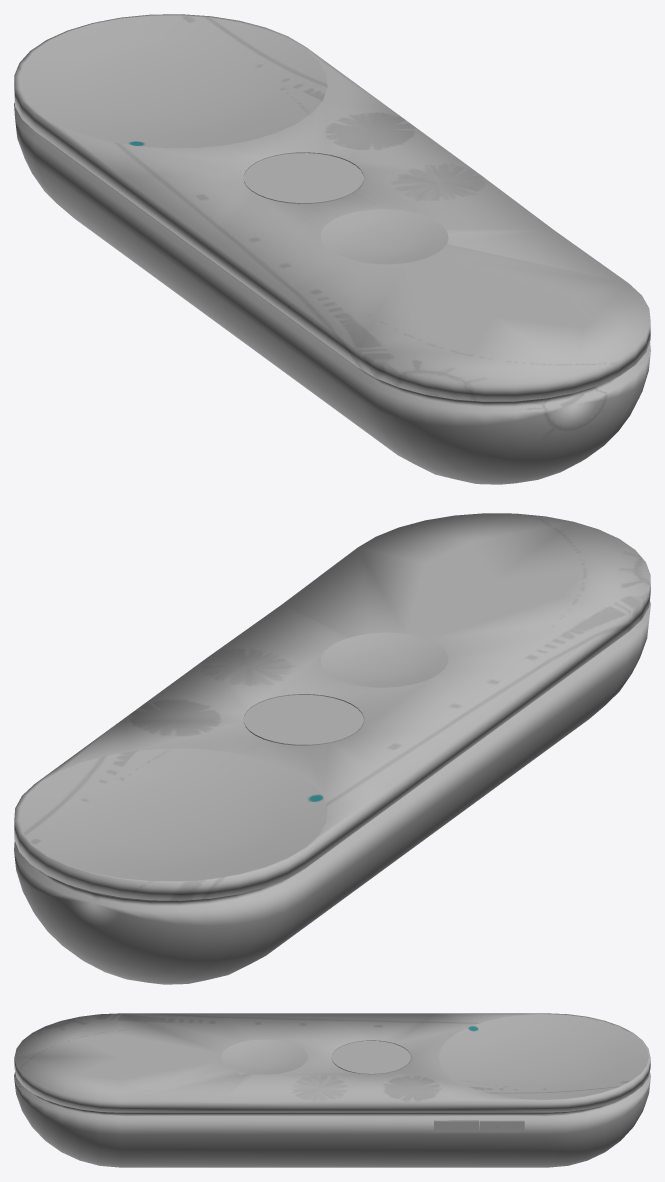
The model's file is vr_controller_daydream.obj.
3 views of the same model, one above another, from view 1: azimuth 30°, elevation 25°; view 2: azimuth 150°, elevation 25°; view 3: azimuth 270°, elevation 25° (orthographic). The views are drawn at different scales.
Parts seen in each view (by area): view 1: Body_Body_Cylinder, TouchPad_TouchPad_Cylinder.003, AppButton_AppButton_Cylinder.004, HomeButton_HomeButton_Cylinder.005; view 2: Body_Body_Cylinder, TouchPad_TouchPad_Cylinder.003, AppButton_AppButton_Cylinder.004, HomeButton_HomeButton_Cylinder.005; view 3: Body_Body_Cylinder, TouchPad_TouchPad_Cylinder.003, AppButton_AppButton_Cylinder.004, HomeButton_HomeButton_Cylinder.005, VolUpButton_VolUpButton_Cylinder.002, VolDownButton_VolDownButton_Cylinder.001.
Boxes of the visible parts, x1,y1,x2,y2 form: Body_Body_Cylinder: (14,14,650,484); TouchPad_TouchPad_Cylinder.003: (18,15,327,148); AppButton_AppButton_Cylinder.004: (320,209,448,264); HomeButton_HomeButton_Cylinder.005: (243,152,363,203); Body_Body_Cylinder: (14,513,650,984); TouchPad_TouchPad_Cylinder.003: (19,748,327,880); AppButton_AppButton_Cylinder.004: (320,632,448,687); HomeButton_HomeButton_Cylinder.005: (243,694,363,745); Body_Body_Cylinder: (14,1013,650,1167); TouchPad_TouchPad_Cylinder.003: (439,1014,648,1099); AppButton_AppButton_Cylinder.004: (221,1039,307,1074); HomeButton_HomeButton_Cylinder.005: (331,1040,411,1074); VolUpButton_VolUpButton_Cylinder.002: (479,1120,524,1132); VolDownButton_VolDownButton_Cylinder.001: (434,1120,478,1132).
Size of the model in its own units: 0.0343 by 0.018 by 0.104.
6 materials, 6 textured.
